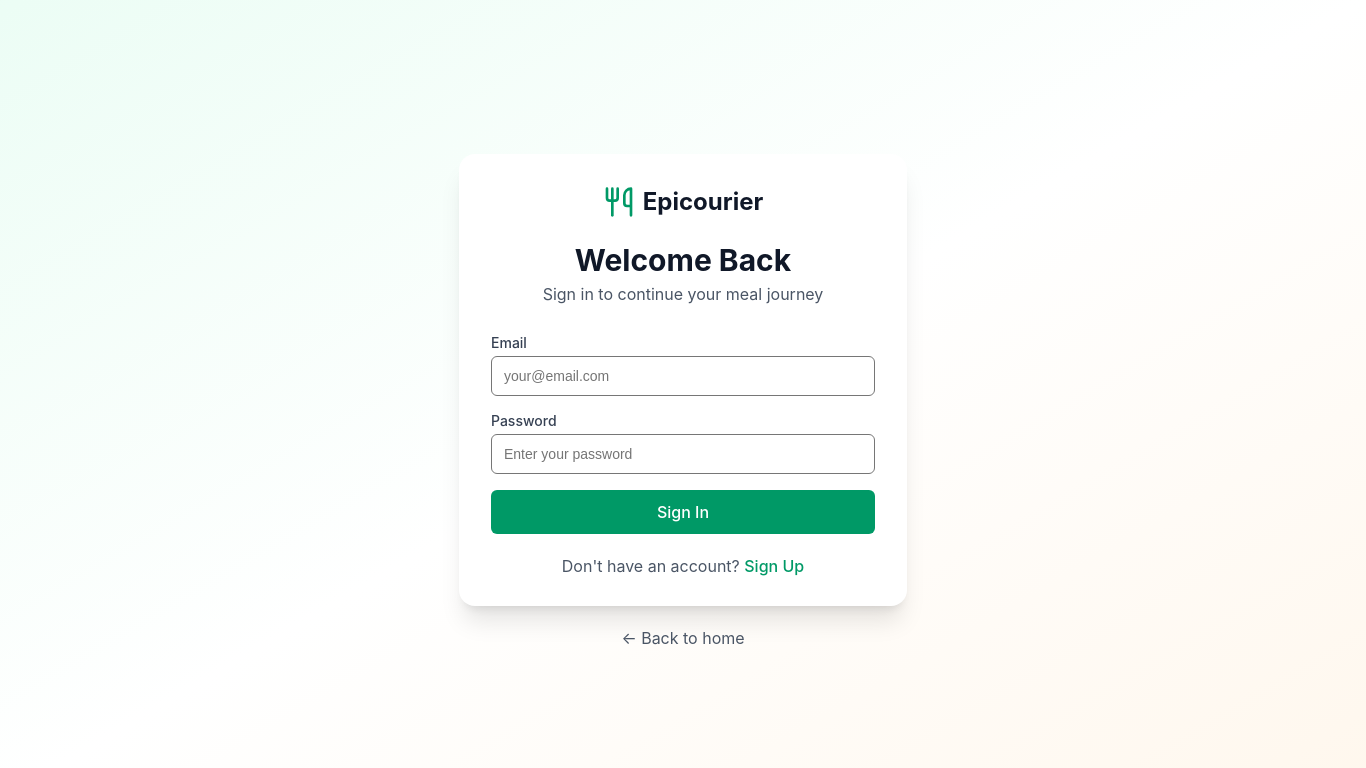
it: SignIn Page › shows validation error for invalid email format
Type "invalidemail" into the field labelled "Email".
click(683, 376); type("invalidemail")  # box [491,356,875,396]
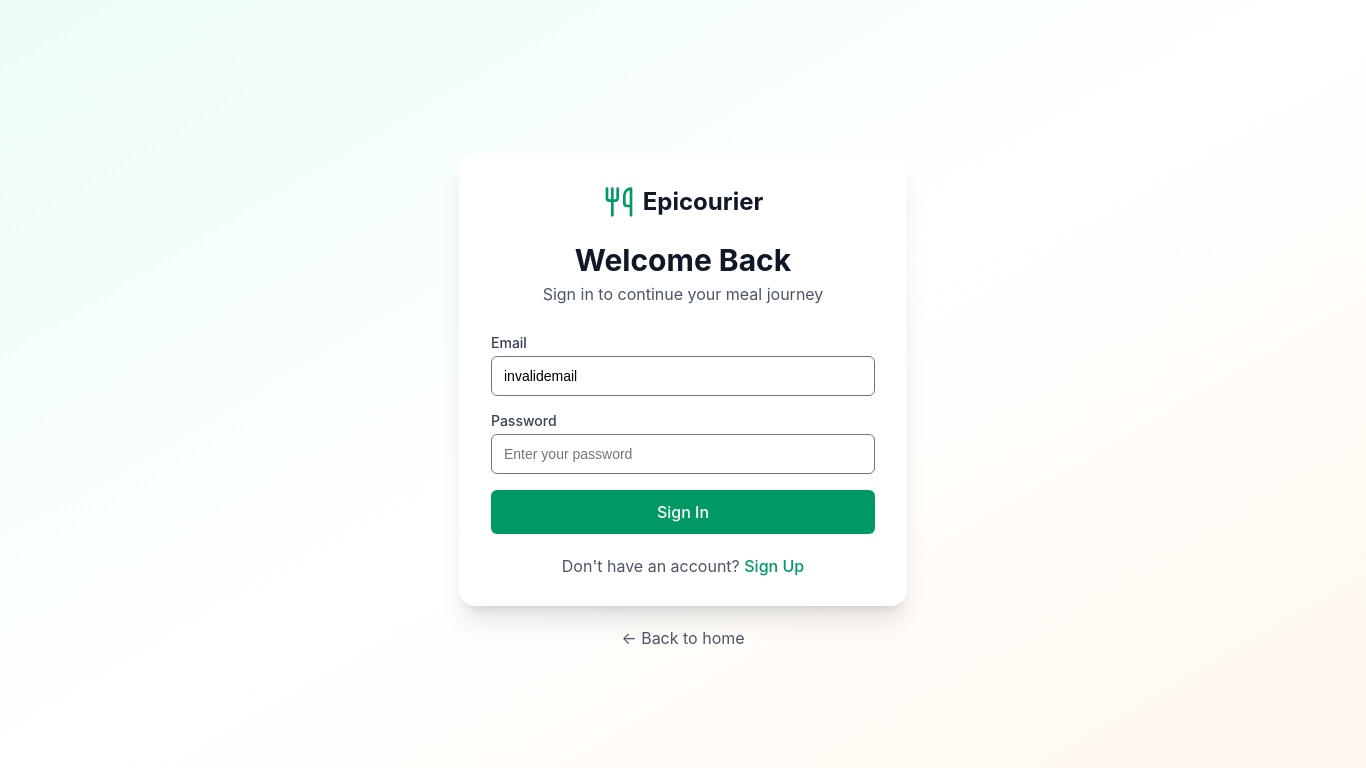
Type "123456" into the password field labelled "Password".
click(683, 454); type("123456")  # box [491,434,875,474]
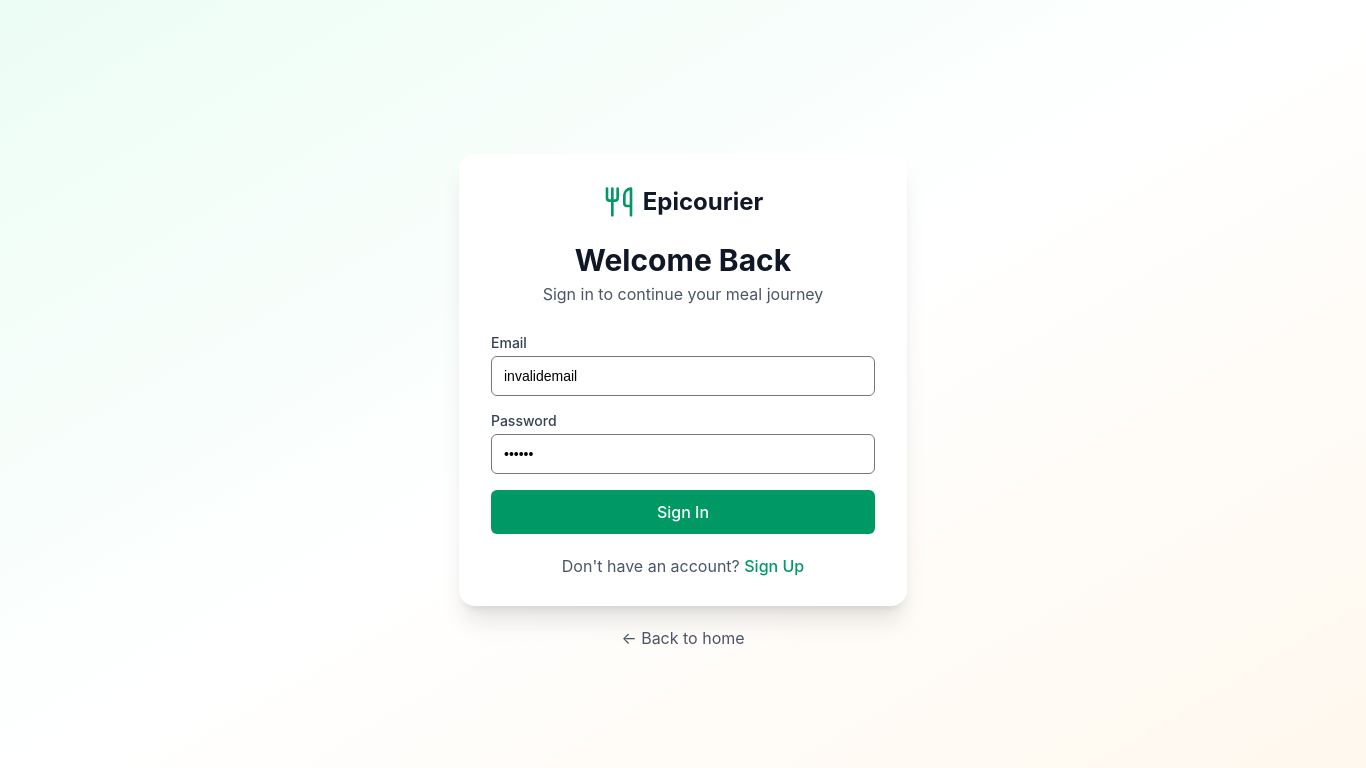
Click the button "Sign In".
click(683, 512)  # box [491,490,875,534]
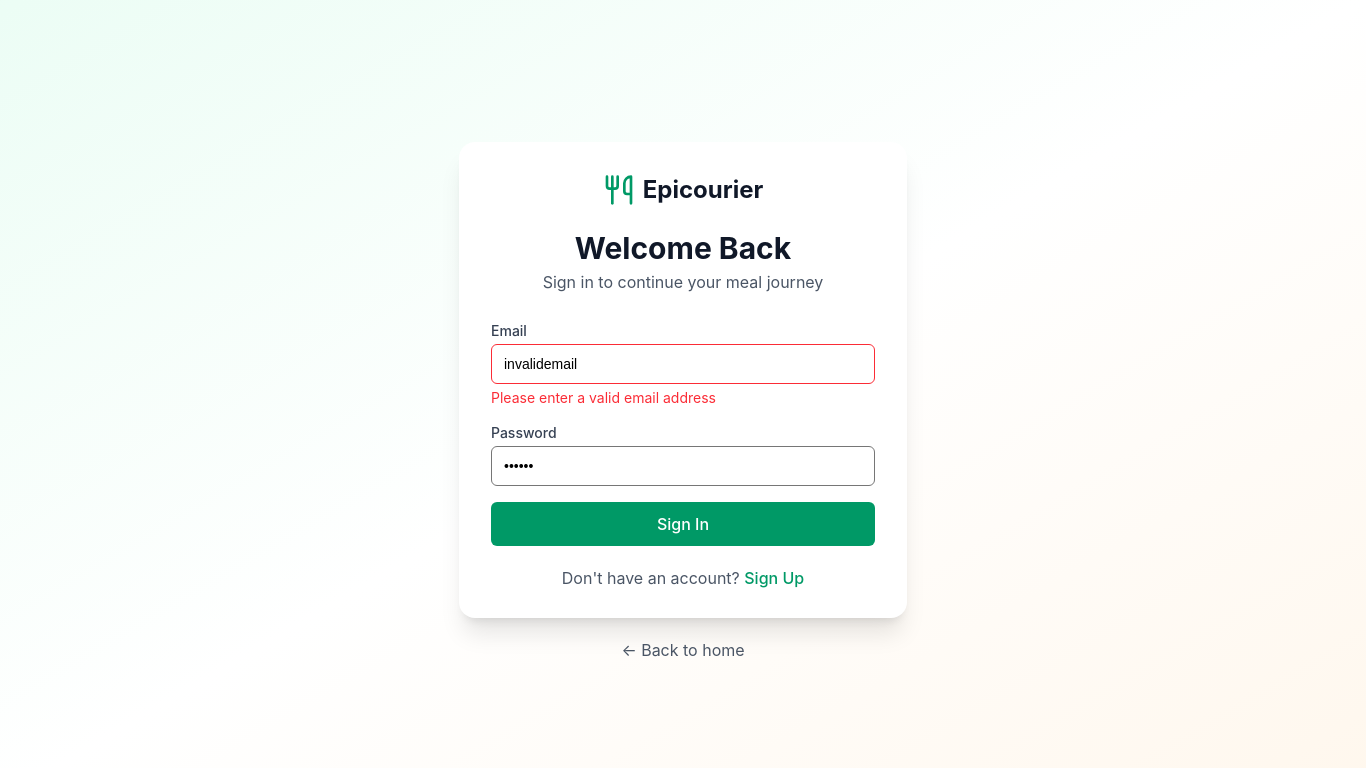
expect the text "Please enter a valid email address" is shown: met, box [491,389,716,406]
